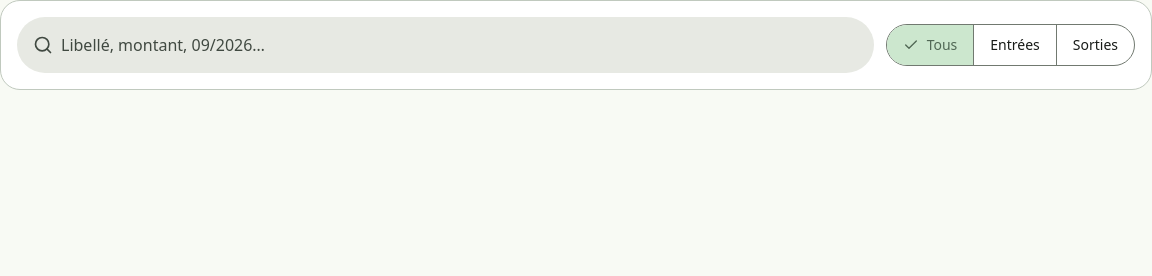
MovementSearch › par libellé, sans accents ni majuscules ; le solde net ignore la part des parents
Type "epargne" into the search field named "Rechercher un mouvement" at x=465, y=45, box 61,17 -> 870,73
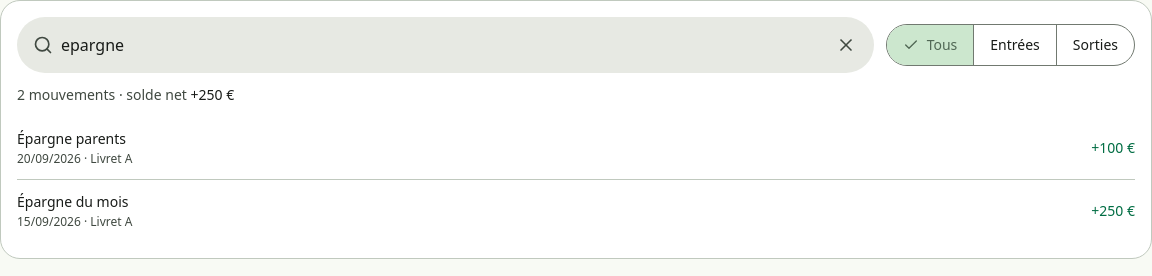
Expected: the number of list items is 2, 17,117 -> 1135,180; 17,180 -> 1135,242
Expected: the text "2 mouvements · solde net +250 €" is shown, 17,85 -> 234,104
